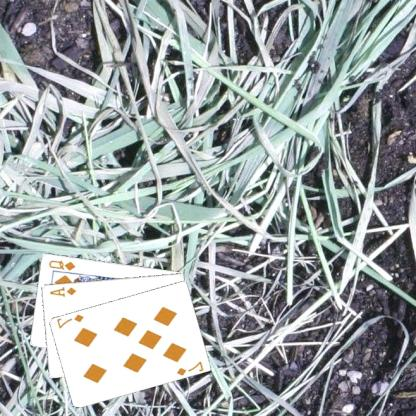7D: (56, 311, 87, 330), (175, 358, 206, 376)
AD: (49, 284, 79, 298)
QD: (48, 257, 78, 272)
